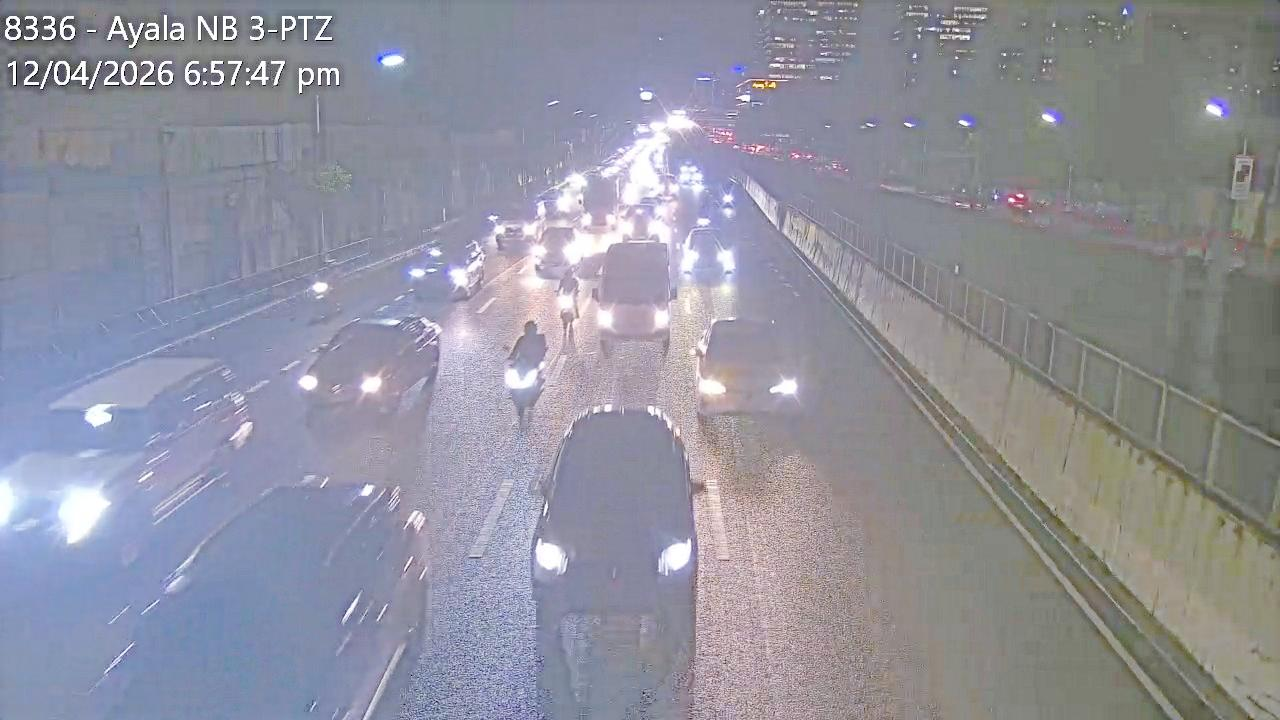Car: (93, 475, 424, 714), (4, 355, 251, 565), (528, 406, 703, 659), (297, 315, 435, 421), (696, 315, 798, 419), (593, 236, 675, 348), (415, 241, 486, 300), (678, 224, 733, 279), (302, 258, 344, 321), (532, 224, 581, 276), (622, 206, 668, 248), (493, 210, 532, 250)
Motor: (503, 316, 548, 418), (557, 283, 580, 335)
Not Accident: (10, 362, 422, 720), (294, 255, 439, 424), (530, 224, 590, 332)
